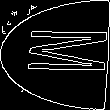M_E: (3, 31, 107, 79)
